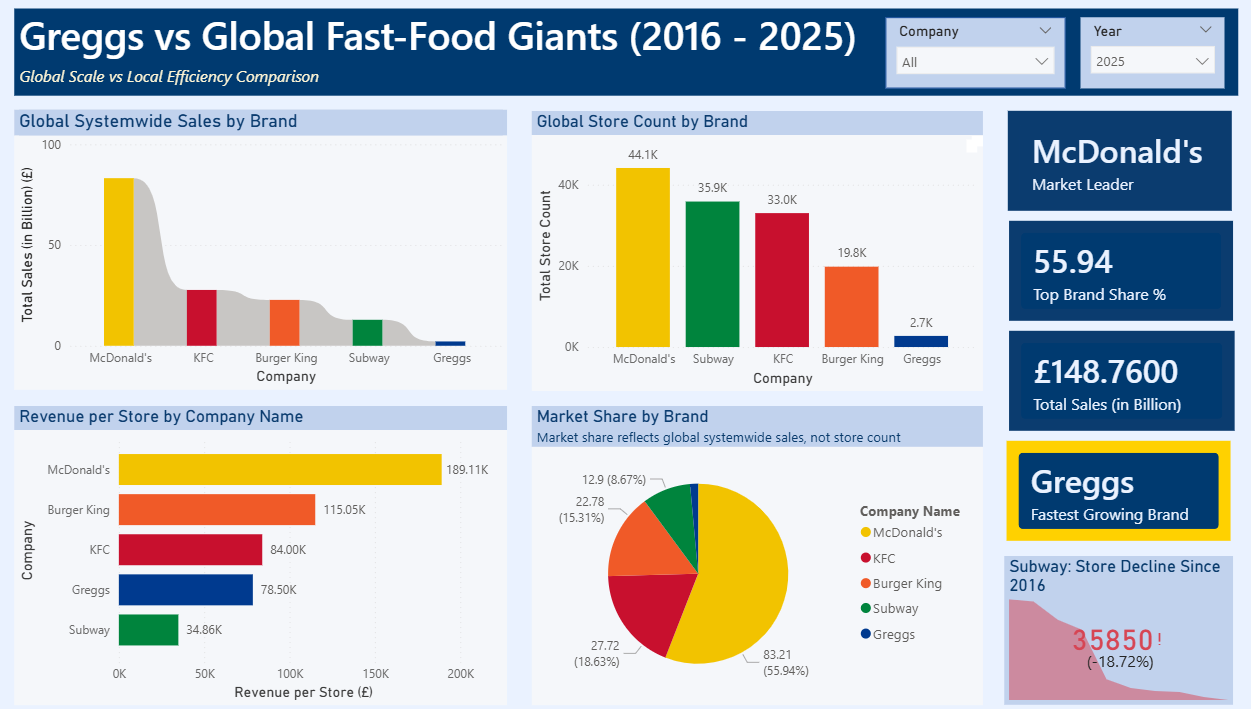

The dashboard page shown, as its layout file describes it:
{"tool":"powerbi","page":{"name":"Page 1","canvas":[1280,720],"ordinal":0},"visuals":[{"type":"shape","box":[0,0,1280,720],"z":0},{"type":"textbox","title":"Greggs vs Global Fast-Food Giants (2016 - 2025)","box":[25.7,17.1,1224.3,87.1],"z":1000},{"type":"cardVisual","fields":{"Data":["Sum(Table1.Revenue (in Billion) (UK Pounds))"]},"box":[1016.2,335,235,110],"z":2000},{"type":"slicer","fields":{"Values":["Table1.Company Name"]},"box":[897.6,25.7,179.8,70.9],"z":3000},{"type":"slicer","fields":{"Values":["Table1.Year"]},"box":[1092,25.7,144.3,70.9],"z":4000},{"type":"cardVisual","fields":{"Data":["Table1.Fastest Growing Brand"]},"box":[1013.7,445.1,234.8,110.1],"z":5000},{"type":"cardVisual","fields":{"Data":["Table1.Market Leader"]},"box":[1015,114.9,234.8,110.1],"z":6000},{"type":"ribbonChart","title":"Global Systemwide Sales by Brand","fields":{"Category":["Table1.Company Name"],"Y":["Sum(Table1.Systemwide Sales (Billion))"]},"box":[25.7,118.6,492.8,280],"z":7000},{"type":"clusteredColumnChart","title":"Global Store Count by Brand","fields":{"Category":["Table1.Company Name"],"Y":["Max(Table17.Store Count)"]},"box":[544.2,119.8,451.2,280],"z":8000},{"type":"clusteredBarChart","fields":{"Category":["Table1.Company Name"],"Y":["Table1.Revenue per Store"]},"box":[25.7,414.5,492.8,299.6],"z":9000},{"type":"slicer","fields":{"Values":["Table1.Year"]},"box":[978.3,149.2,9.8,12.2],"z":10000},{"type":"cardVisual","fields":{"Data":["Table1.Top Brand Share %"]},"box":[1016.2,225,234.8,110.1],"z":11000},{"type":"pieChart","title":"Market Share by Brand","fields":{"Category":["Table1.Company Name"],"Y":["Sum(Table1.Systemwide Sales (Billion))"]},"box":[544.2,414.5,451.2,299.6],"z":12000},{"type":"slicer","fields":{"Values":["Table17.Company Name"]},"box":[978.8,148.8,10,12.5],"z":13000},{"type":"kpi","title":"Subway: Store Decline Since 2016","fields":{"TrendLine":["Table17.Year"],"Goal":["Table17.Stores Target (2016)"],"Indicator":["Table17.Total Stores (New)"]},"box":[1016.2,564.9,229,149.2],"z":14000},{"type":"slicer","fields":{"Values":["Table17.Year"]},"box":[983.8,145,11.2,10],"z":15000}]}

Visuals, with their boxes in screenshot pixels (x1, y1, x2, y2), scaled from the page's 1280x720 canvas onto the 1251x709 screenshot:
shape: (0, 0, 1250, 708)
"Greggs vs Global Fast-Food Giants (2016 - 2025)" textbox: (25, 17, 1222, 103)
cardVisual - Sum(Table1.Revenue (in Billion) (UK Pounds)): (993, 330, 1223, 438)
slicer - Table1.Company Name: (877, 25, 1053, 95)
slicer - Table1.Year: (1067, 25, 1208, 95)
cardVisual - Table1.Fastest Growing Brand: (991, 438, 1220, 547)
cardVisual - Table1.Market Leader: (992, 113, 1221, 222)
"Global Systemwide Sales by Brand" ribbonChart: (25, 117, 507, 393)
"Global Store Count by Brand" clusteredColumnChart: (532, 118, 973, 394)
clusteredBarChart - Table1.Company Name x Table1.Revenue per Store: (25, 408, 507, 703)
slicer - Table1.Year: (956, 147, 966, 159)
cardVisual - Table1.Top Brand Share %: (993, 222, 1223, 330)
"Market Share by Brand" pieChart: (532, 408, 973, 703)
slicer - Table17.Company Name: (957, 147, 966, 159)
"Subway: Store Decline Since 2016" kpi: (993, 556, 1217, 703)
slicer - Table17.Year: (962, 143, 972, 153)
